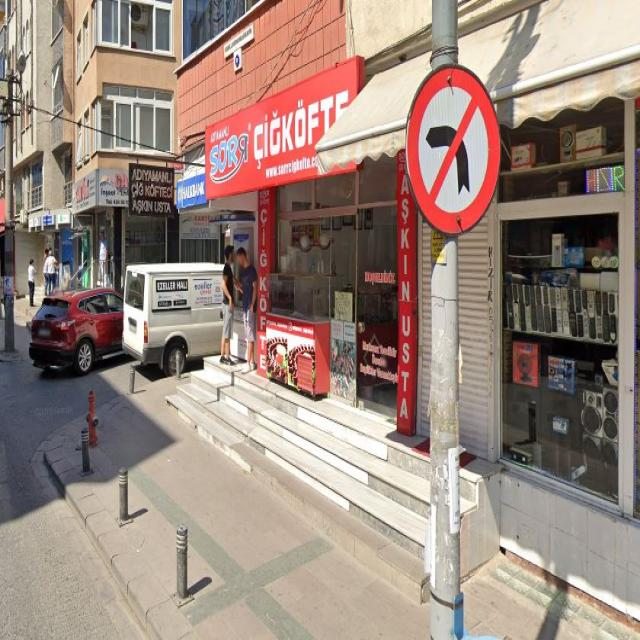soladonulmez: (406, 64, 499, 235)
